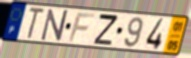4: (144, 17, 165, 52)
9: (122, 16, 145, 49)
F: (67, 12, 97, 44)
N: (40, 9, 69, 43)
T: (25, 6, 47, 40)
Z: (92, 13, 119, 47)
